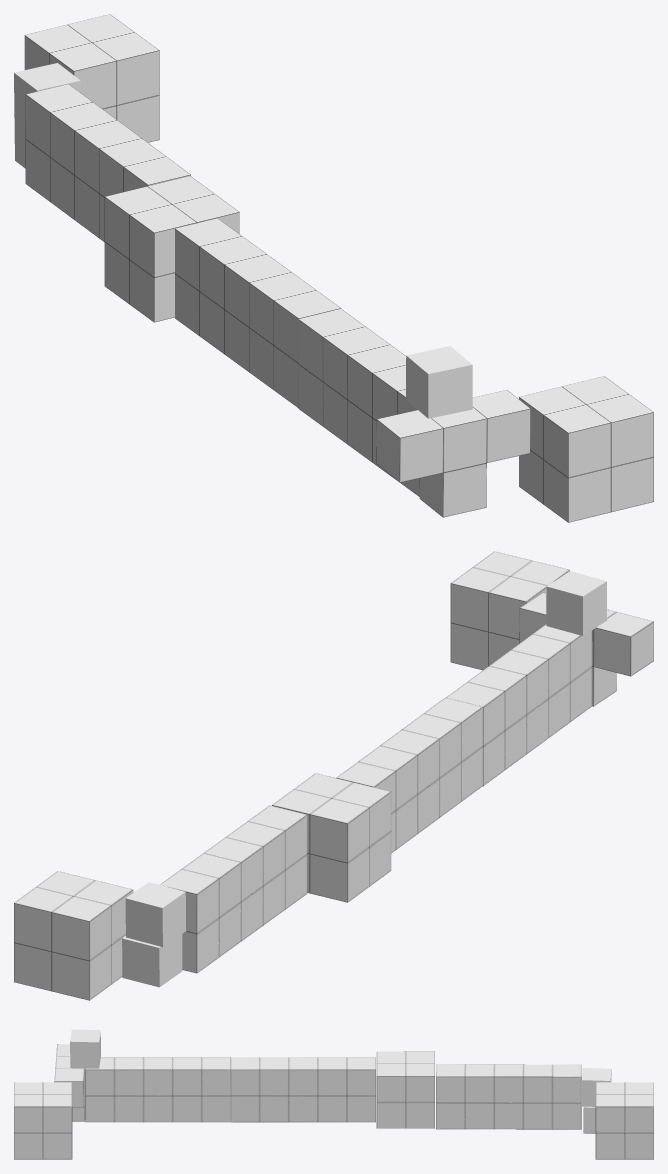
3 views of the same model, one above another, from view 1: azimuth 30°, elevation 25°; view 2: azimuth 150°, elevation 25°; view 3: azimuth 270°, elevation 25° (orthographic). The views are drawn at different scales.
Visible parts, largest first — view 1: GridPlank_0:2, Plane/BasicEnvironment/StartCube-1, GridPlank_0:1, GridTShape_0, GridPlank_0, GridCube_0, Plane/BasicEnvironment/StartCube-2, GridSmallCube_0:1, GridSmallCube_0; view 2: GridPlank_0:1, GridPlank_0, Plane/BasicEnvironment/StartCube-2, GridPlank_0:2, GridCube_0, Plane/BasicEnvironment/StartCube-1, GridTShape_0, GridSmallCube_0:1, GridSmallCube_0, GridSmallCube_0:2; view 3: GridPlank_0:2, GridPlank_0:1, GridPlank_0, Plane/BasicEnvironment/StartCube-1, Plane/BasicEnvironment/StartCube-2, GridCube_0, GridTShape_0, GridSmallCube_0:1, GridSmallCube_0, GridSmallCube_0:2.
Part boxes in pixels (x1,y1,x2,y2): GridPlank_0:2: [175, 218, 341, 407]; Plane/BasicEnvironment/StartCube-1: [519, 376, 653, 522]; GridPlank_0:1: [25, 84, 190, 241]; GridTShape_0: [376, 390, 530, 517]; GridPlank_0: [298, 309, 419, 496]; GridCube_0: [104, 176, 239, 322]; Plane/BasicEnvironment/StartCube-2: [24, 14, 159, 142]; GridSmallCube_0:1: [406, 346, 472, 418]; GridSmallCube_0: [14, 63, 80, 125]; GridPlank_0:1: [160, 805, 307, 973]; GridPlank_0: [446, 624, 592, 786]; Plane/BasicEnvironment/StartCube-2: [14, 871, 133, 1000]; GridPlank_0:2: [336, 697, 482, 853]; GridCube_0: [272, 773, 391, 902]; Plane/BasicEnvironment/StartCube-1: [450, 551, 569, 670]; GridTShape_0: [519, 592, 653, 706]; GridSmallCube_0:1: [546, 571, 606, 635]; GridSmallCube_0: [125, 882, 186, 947]; GridSmallCube_0:2: [122, 934, 182, 987]; GridPlank_0:2: [230, 1057, 375, 1122]; GridPlank_0:1: [436, 1064, 581, 1129]; GridPlank_0: [85, 1057, 230, 1122]; Plane/BasicEnvironment/StartCube-1: [14, 1082, 72, 1159]; Plane/BasicEnvironment/StartCube-2: [595, 1082, 653, 1159]; GridCube_0: [376, 1051, 434, 1128]; GridTShape_0: [54, 1044, 85, 1121]; GridSmallCube_0:1: [70, 1029, 100, 1068]; GridSmallCube_0: [581, 1068, 611, 1106]; GridSmallCube_0:2: [583, 1106, 595, 1133].
Bounding box in the file's own units: 0.5076 × 0.3011 × 2.2.
